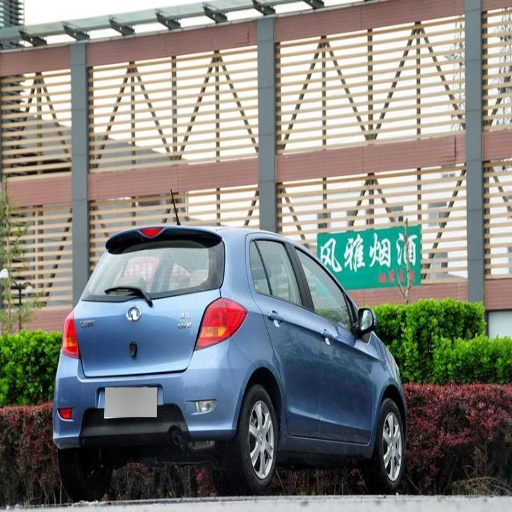back_bumper: (54, 338, 250, 446)
back_right_door: (249, 236, 324, 438)
trunk: (78, 293, 214, 377)
